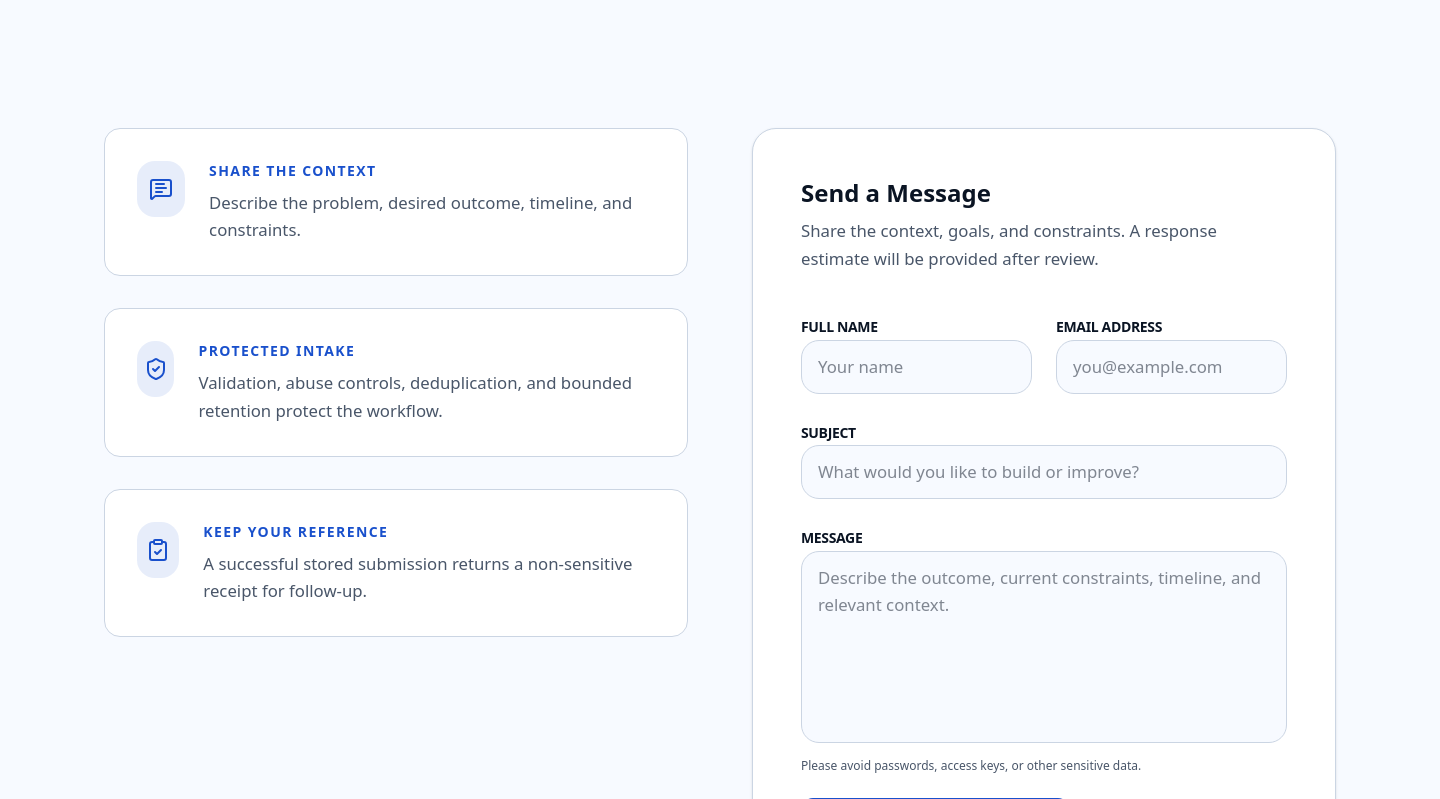
Test: ContactContentSection › announces an idempotent duplicate as already received
The image size is (1440, 799).
In the field labelled "Full Name": (916, 367) [801,340,1032,394], type "Ada Lovelace"
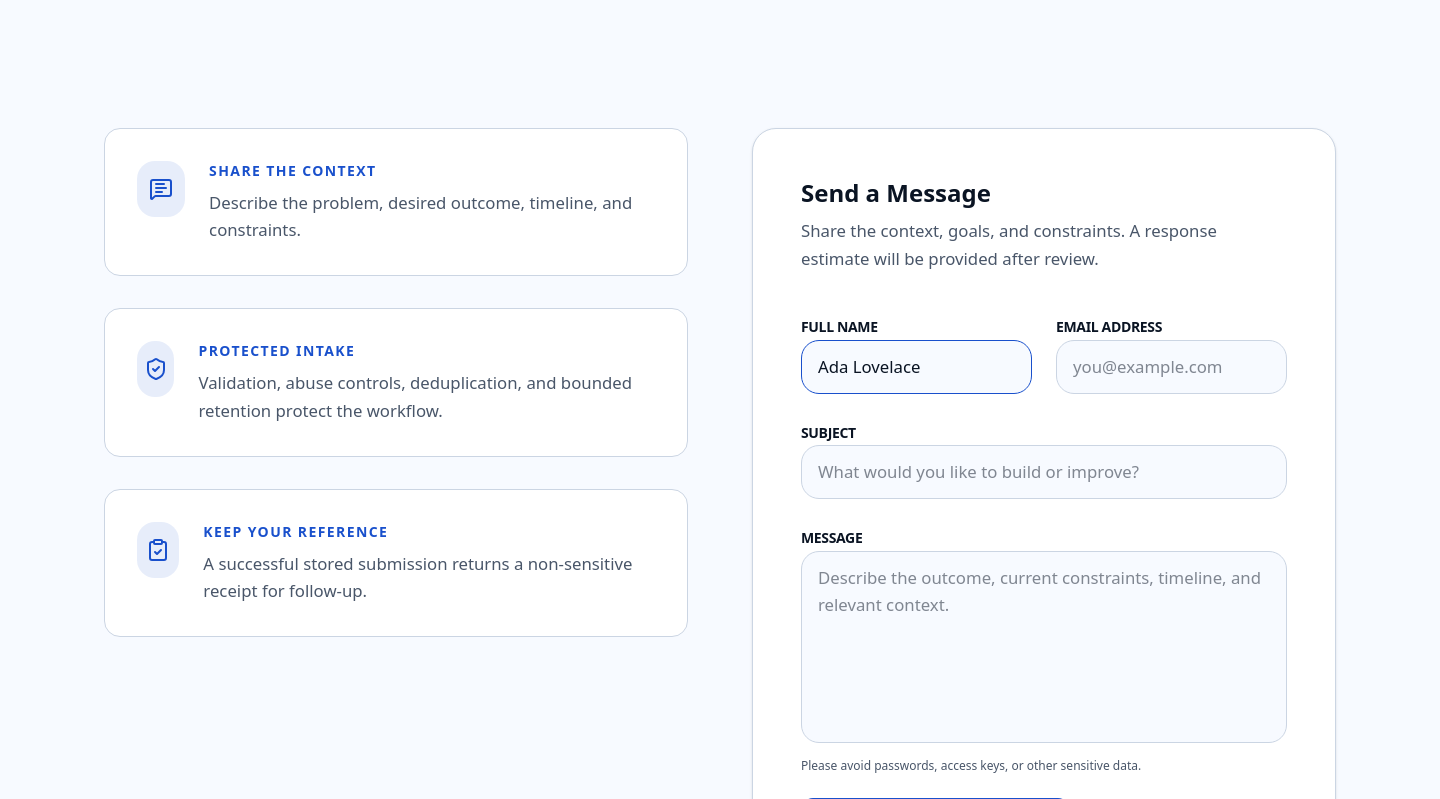
In the field labelled "Email Address": (1172, 367) [1056,340,1287,394], type "ada@example.com"
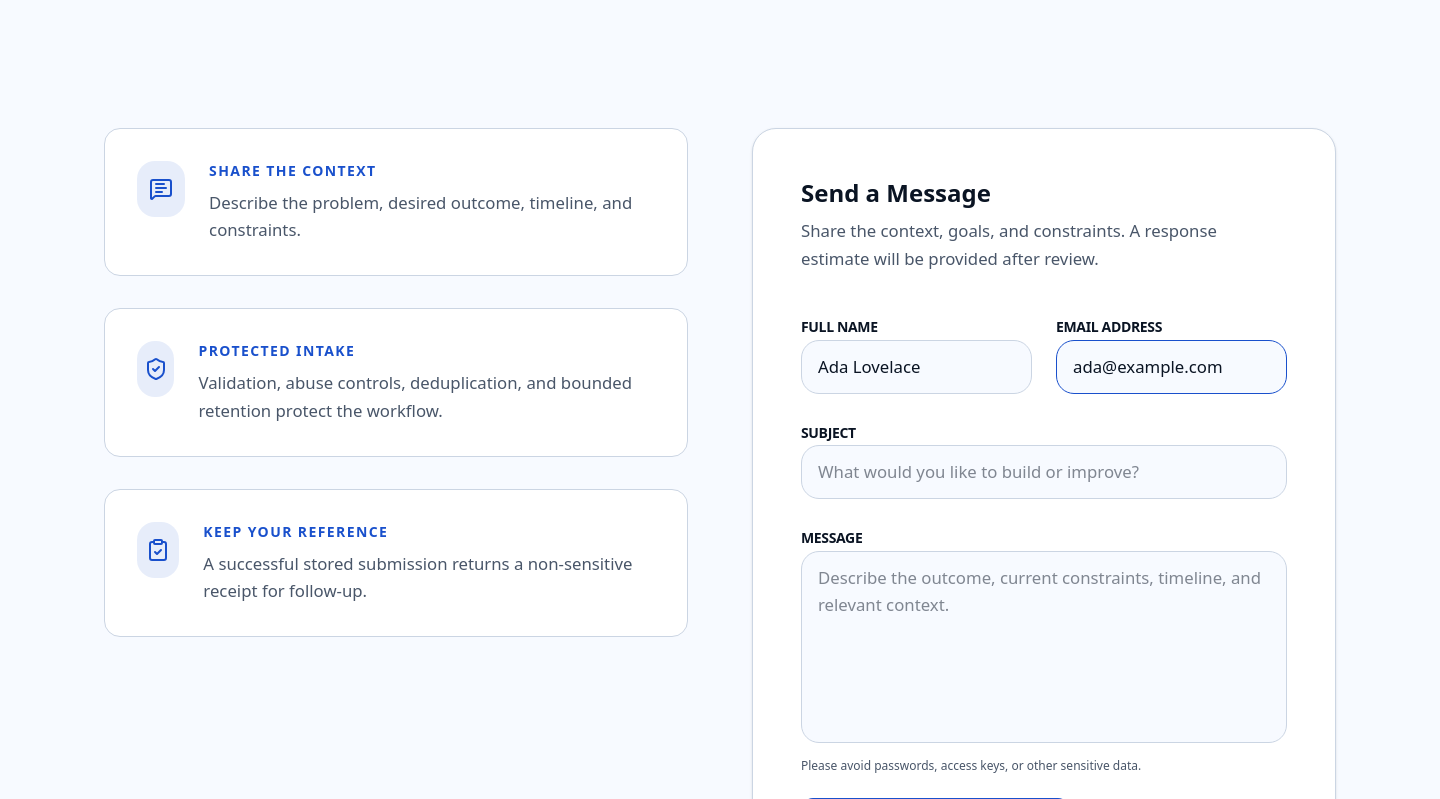
In the field labelled "Subject": (1044, 472) [801,445,1287,499], type "Duplicate retry"
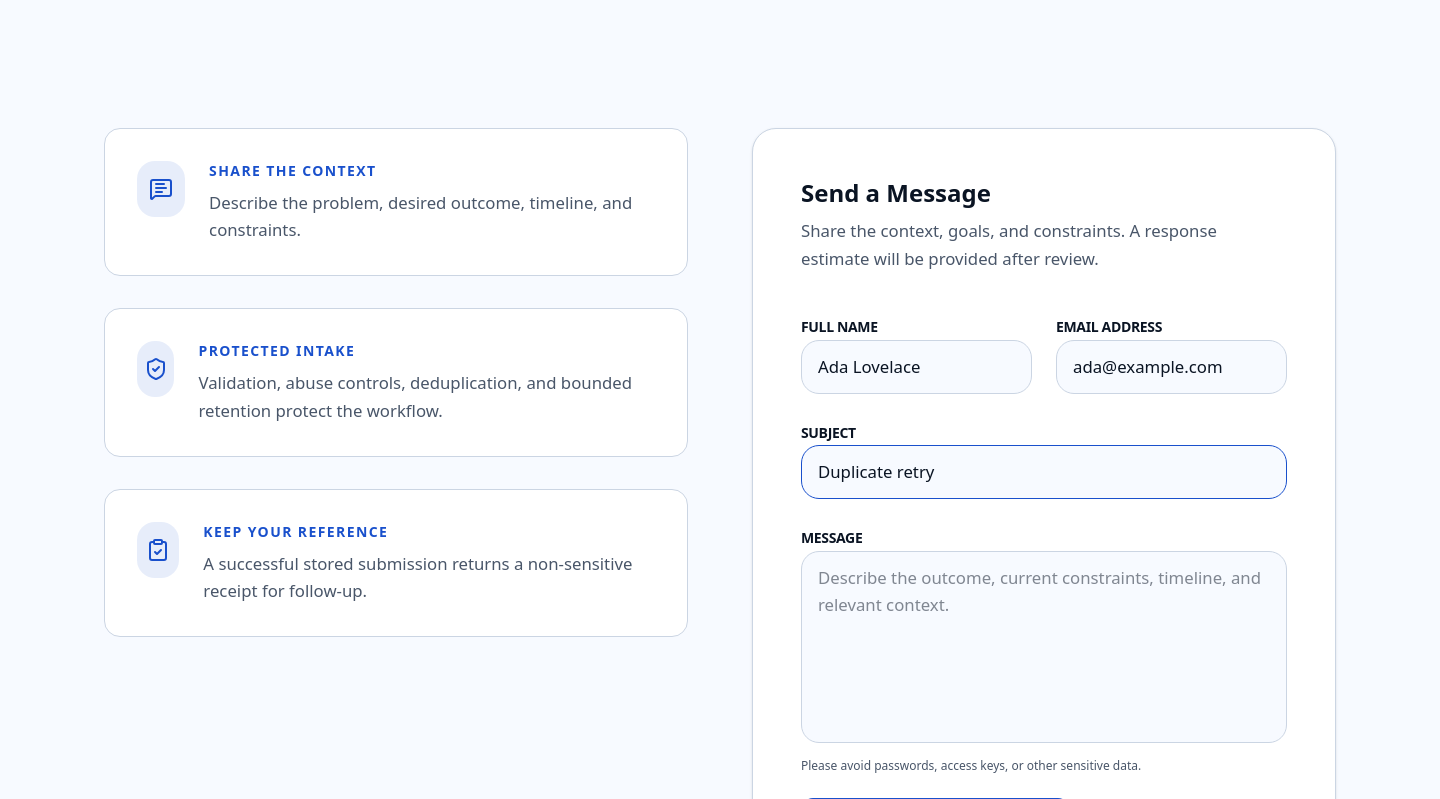
In the text box labelled "Message": (1044, 647) [801,551,1287,742], type "This retry should keep the same server receipt."
(page scrolled)
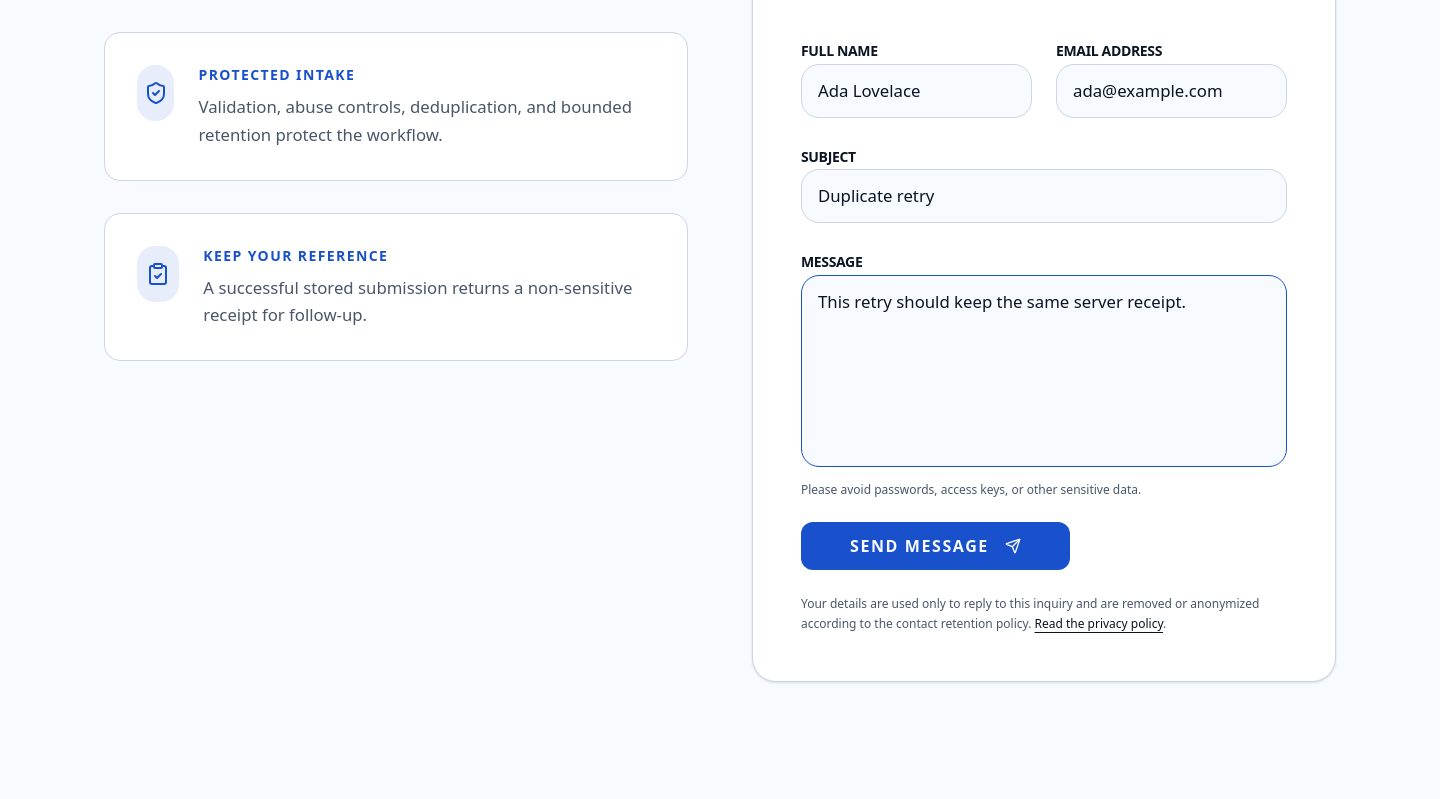
Click the button "Send Message": (935, 546) [801,522,1070,570]
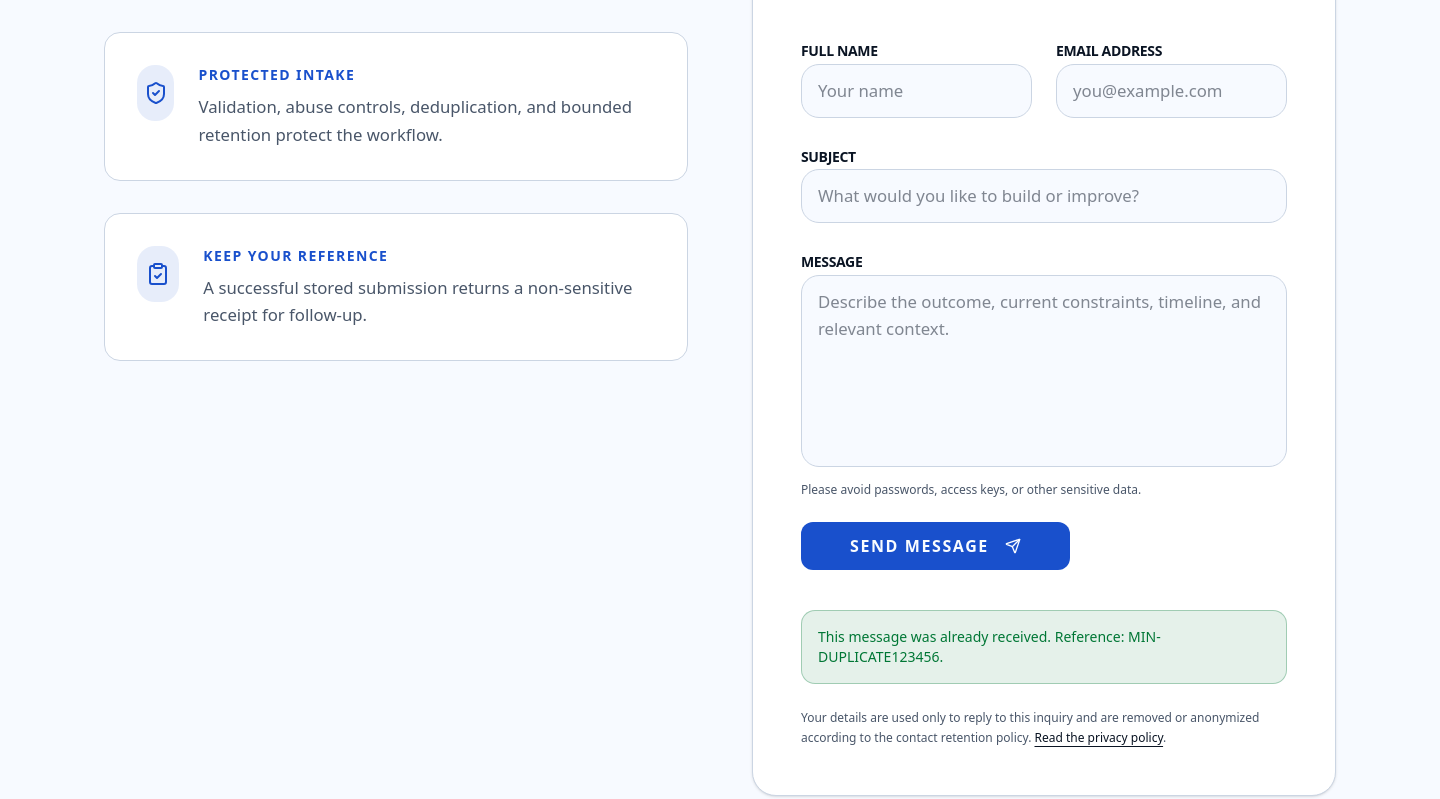
Expected: the message shows "This message was already received. Reference: MIN-DUPLICATE123456", [801,610,1287,684]
